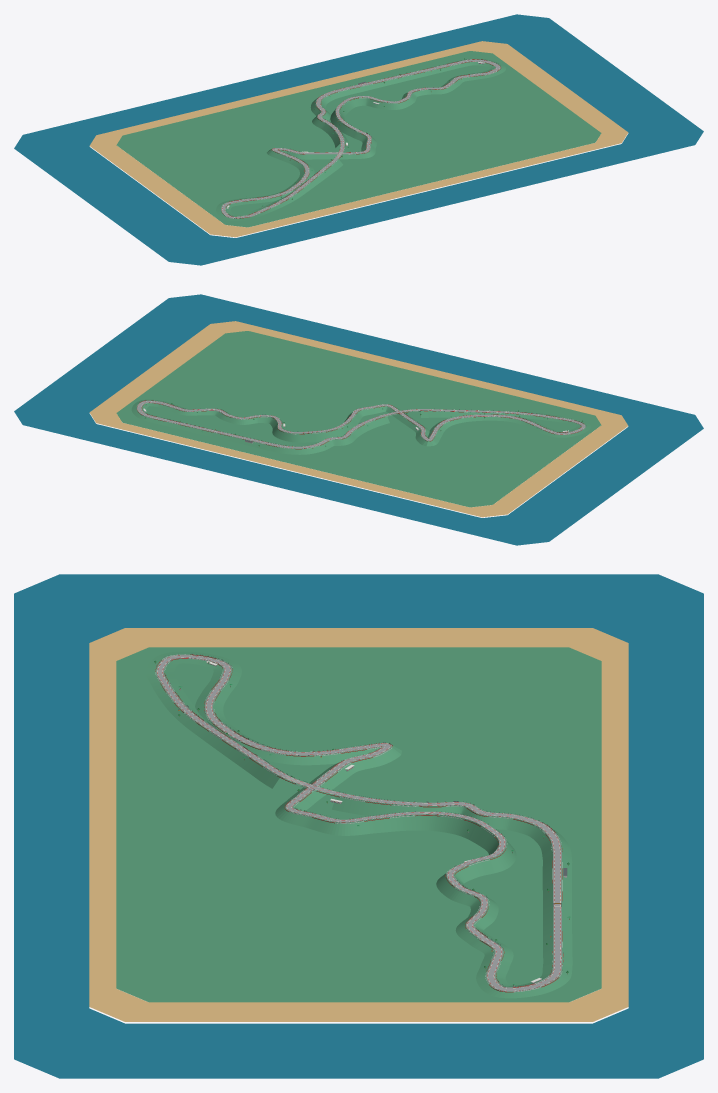
File: suzuka.glb
The picture shows the model from 3 angles, top to bottom: view 1: azimuth 30°, elevation 25°; view 2: azimuth 150°, elevation 25°; view 3: azimuth 270°, elevation 25°; orthographic projection. The views are drawn at different scales.
Visible parts, largest first — view 1: island_vegetation, ocean, sand_island, track_embankment, track_surface, track_runoff, continuous_safety_barriers; view 2: island_vegetation, ocean, sand_island, track_embankment, track_surface, track_runoff, continuous_safety_barriers; view 3: island_vegetation, ocean, sand_island, track_embankment, track_surface, track_runoff, continuous_safety_barriers, track_curbs.
Boxes of the visible parts, bbox=[...] form: island_vegetation: bbox=[116, 51, 601, 227]; ocean: bbox=[14, 14, 703, 265]; sand_island: bbox=[89, 41, 628, 237]; track_embankment: bbox=[216, 58, 505, 220]; track_surface: bbox=[222, 60, 499, 217]; track_runoff: bbox=[221, 59, 500, 218]; continuous_safety_barriers: bbox=[221, 59, 500, 218]; island_vegetation: bbox=[116, 331, 601, 507]; ocean: bbox=[14, 294, 703, 545]; sand_island: bbox=[89, 321, 628, 517]; track_embankment: bbox=[131, 399, 590, 454]; track_surface: bbox=[137, 401, 584, 448]; track_runoff: bbox=[137, 400, 585, 448]; continuous_safety_barriers: bbox=[137, 400, 585, 449]; island_vegetation: bbox=[116, 647, 601, 1002]; ocean: bbox=[14, 574, 703, 1078]; sand_island: bbox=[89, 628, 628, 1021]; track_embankment: bbox=[146, 651, 572, 998]; track_surface: bbox=[158, 655, 560, 990]; track_runoff: bbox=[156, 655, 562, 991]; continuous_safety_barriers: bbox=[155, 654, 563, 992]; track_curbs: bbox=[157, 655, 561, 990].
Size of the model in its own units: 3045 by 44.74 by 1760.
